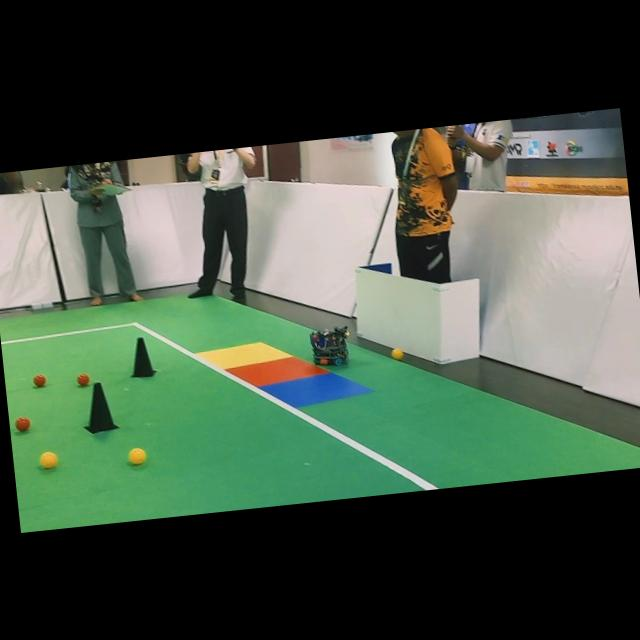ball: (128, 447, 146, 464), (39, 451, 57, 468), (14, 416, 31, 431), (390, 347, 404, 360), (33, 373, 46, 386), (76, 373, 90, 385)
goal: (260, 372, 373, 407), (227, 357, 328, 386), (197, 341, 291, 369)
